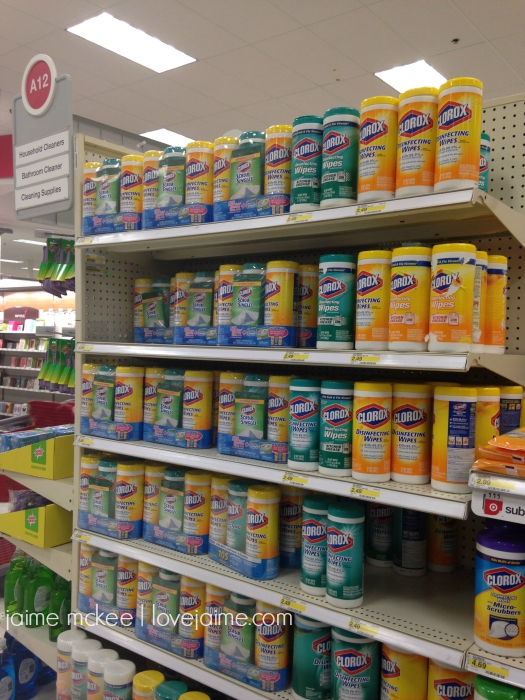Wipes: (470, 521, 525, 663), (426, 240, 478, 357), (431, 75, 482, 190), (383, 244, 432, 352), (394, 85, 438, 200), (326, 493, 367, 609), (356, 93, 399, 203), (317, 106, 362, 211), (350, 377, 393, 485), (433, 381, 474, 493), (389, 380, 432, 486), (312, 250, 356, 352), (352, 244, 392, 353), (327, 619, 377, 700), (252, 594, 291, 694), (317, 375, 354, 480), (243, 483, 279, 582), (373, 634, 427, 700), (289, 113, 323, 217), (292, 609, 330, 700), (262, 258, 299, 349), (179, 367, 217, 449), (289, 374, 320, 473), (236, 369, 268, 463), (299, 495, 328, 597), (263, 121, 293, 218), (484, 246, 510, 357), (52, 626, 90, 699), (225, 587, 255, 679), (212, 367, 242, 458), (391, 505, 428, 578), (472, 384, 503, 470), (210, 130, 238, 224), (236, 258, 264, 352), (235, 127, 263, 220), (424, 507, 462, 575), (182, 470, 212, 556), (158, 143, 187, 231), (177, 570, 205, 660), (112, 457, 141, 543), (115, 148, 143, 236), (266, 369, 291, 466), (425, 651, 473, 700), (184, 139, 211, 226), (187, 270, 217, 348), (92, 154, 121, 234), (165, 269, 194, 349), (113, 362, 141, 444), (292, 261, 318, 349), (362, 496, 392, 572), (223, 482, 248, 571), (152, 565, 178, 650), (215, 258, 239, 350), (278, 477, 302, 569), (68, 637, 103, 700), (89, 544, 115, 627), (84, 646, 122, 700), (140, 144, 161, 241), (470, 248, 489, 355), (202, 581, 225, 669), (138, 363, 163, 443), (158, 466, 181, 550), (470, 663, 522, 700), (146, 276, 174, 344), (113, 549, 136, 629), (93, 456, 115, 539), (76, 455, 100, 531), (208, 471, 228, 560), (89, 362, 112, 438), (159, 366, 181, 444), (142, 460, 162, 545), (77, 156, 97, 240), (130, 272, 152, 347), (75, 536, 93, 626), (101, 656, 137, 700), (76, 360, 96, 438), (135, 558, 154, 640), (497, 384, 525, 439), (129, 666, 166, 700), (478, 129, 493, 193), (152, 677, 190, 700), (173, 687, 215, 700)
